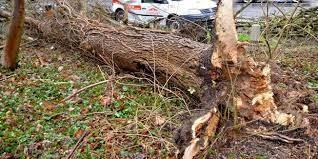Downstairs: (1, 1, 292, 139)
